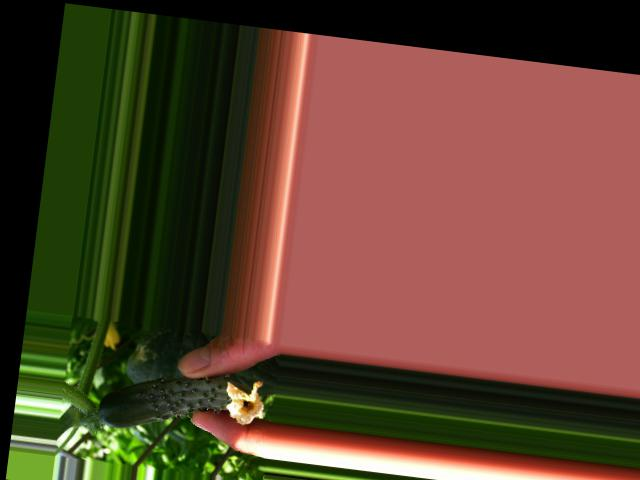cucumber: (95, 361, 267, 444)
